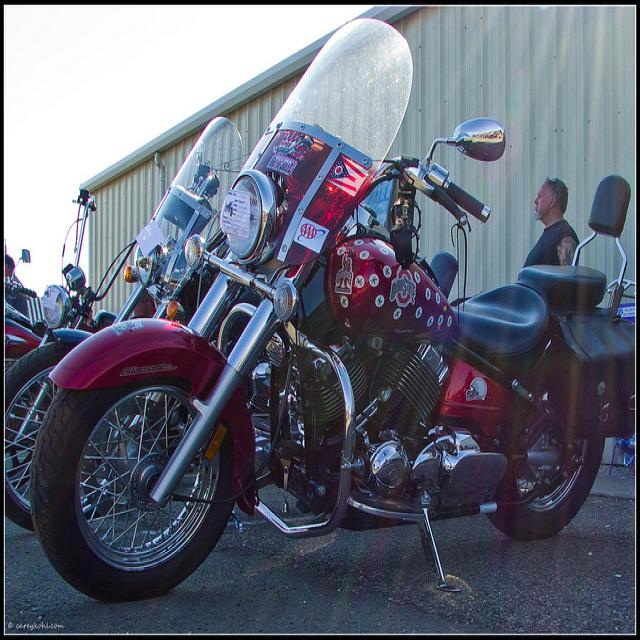motor: (26, 13, 640, 604), (83, 113, 243, 320), (0, 188, 91, 507)
